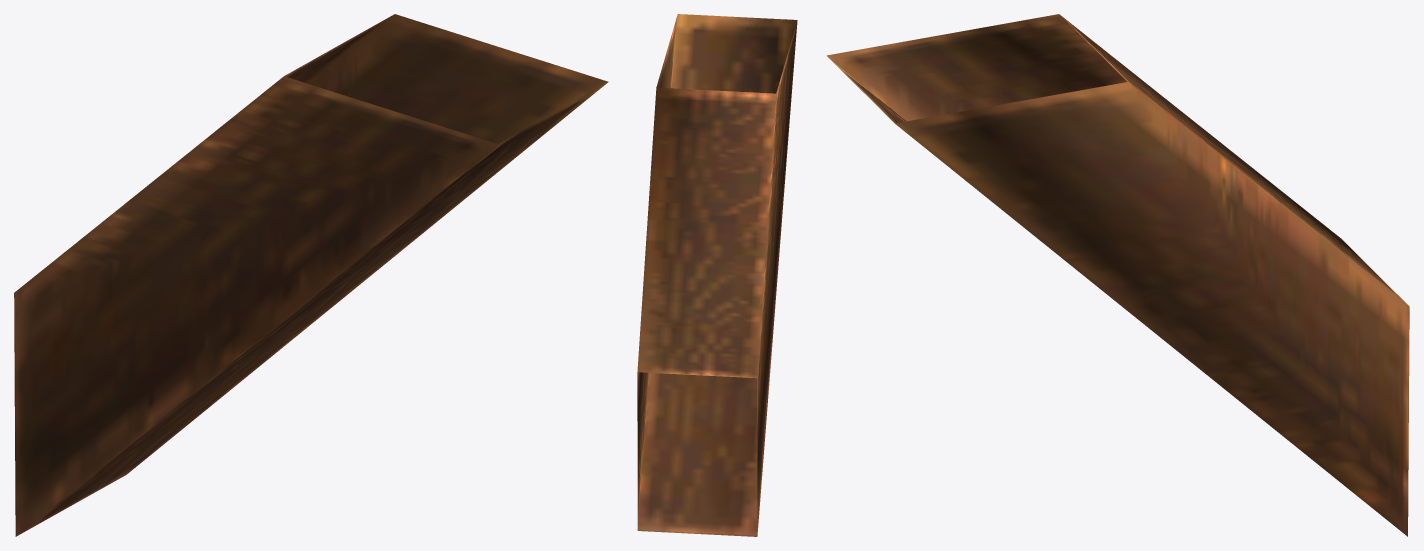
File: SWORDLIGHT20_JAILBRACE99.fbx
The picture shows the model from 3 angles, left to right: view 1: azimuth 30°, elevation 25°; view 2: azimuth 150°, elevation 25°; view 3: azimuth 270°, elevation 25°; orthographic projection. The views are drawn at different scales.
Parts seen in each view (by area): view 1: SWORDLIGHT20_JAILBRACE99; view 2: SWORDLIGHT20_JAILBRACE99; view 3: SWORDLIGHT20_JAILBRACE99.
Boxes of the visible parts, box(x1,y1,x2,y2) form: SWORDLIGHT20_JAILBRACE99: box(14, 14, 608, 536); SWORDLIGHT20_JAILBRACE99: box(637, 14, 797, 536); SWORDLIGHT20_JAILBRACE99: box(826, 14, 1409, 536).
Size of the model in its own units: 5301 by 7647 by 7916.
1 material, 1 textured.
